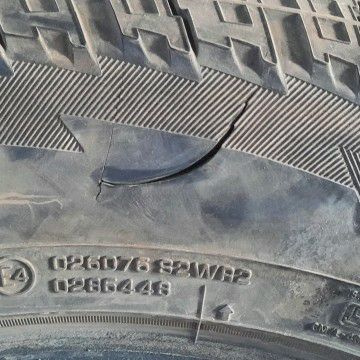cut: (95, 88, 258, 203)
